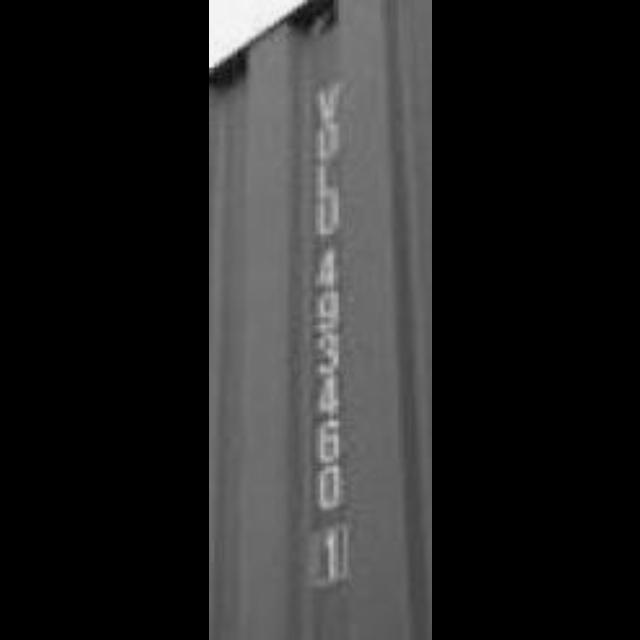0: (311, 464, 349, 516)
1: (314, 524, 352, 580)
3: (310, 330, 346, 378)
4: (310, 244, 346, 296), (311, 374, 345, 416)
6: (310, 417, 348, 468)
9: (309, 288, 349, 330)
l: (308, 162, 346, 204)
o: (304, 123, 354, 161)
u: (308, 194, 350, 242)
v: (308, 82, 348, 124)
